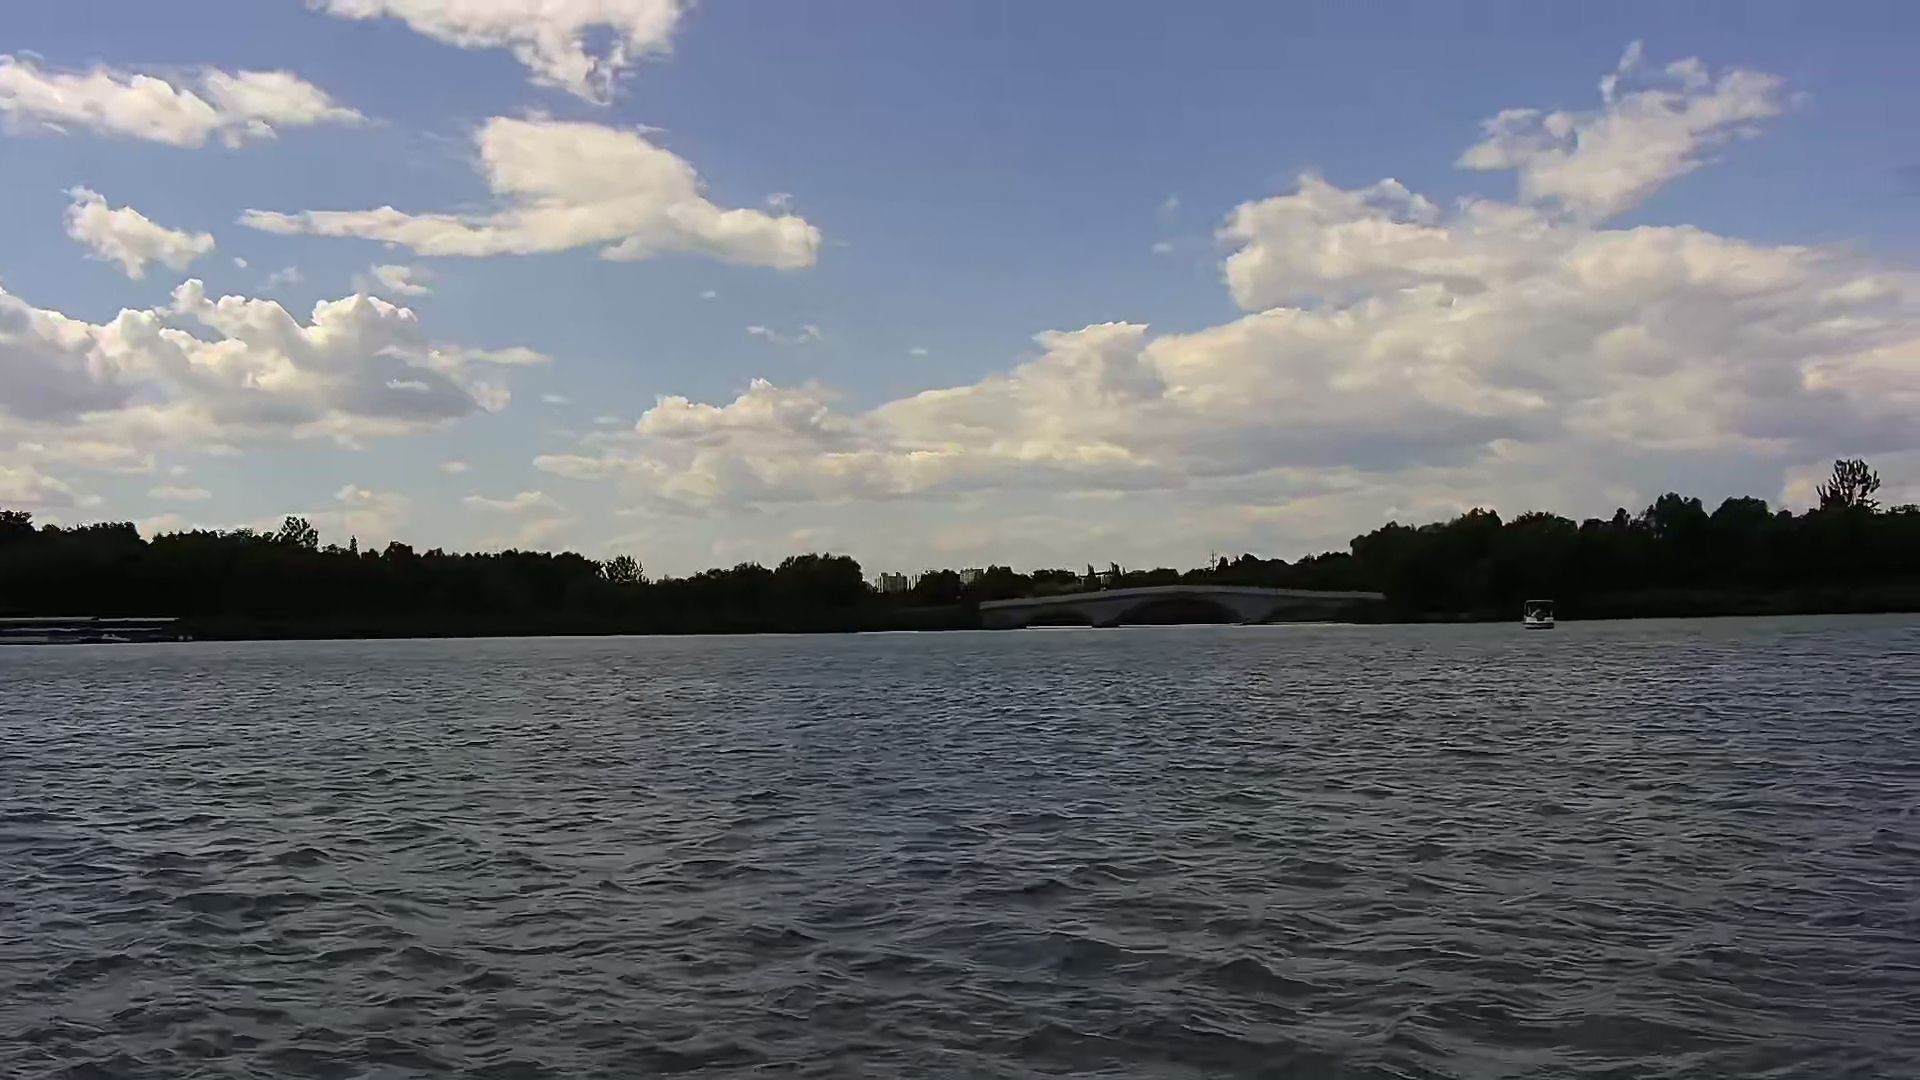boat: (1522, 597, 1553, 632)
bridge: (980, 585, 1396, 622)
harbor: (1, 611, 181, 646)
